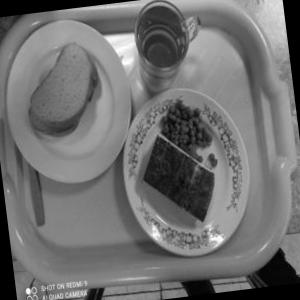bread: (6, 37, 118, 146)
casserole: (133, 99, 237, 226)
tea: (115, 0, 220, 87)
